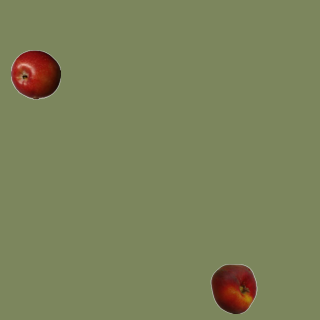Apple Braeburn: (10, 49, 60, 99)
Nectarine Flat: (208, 263, 258, 313)
